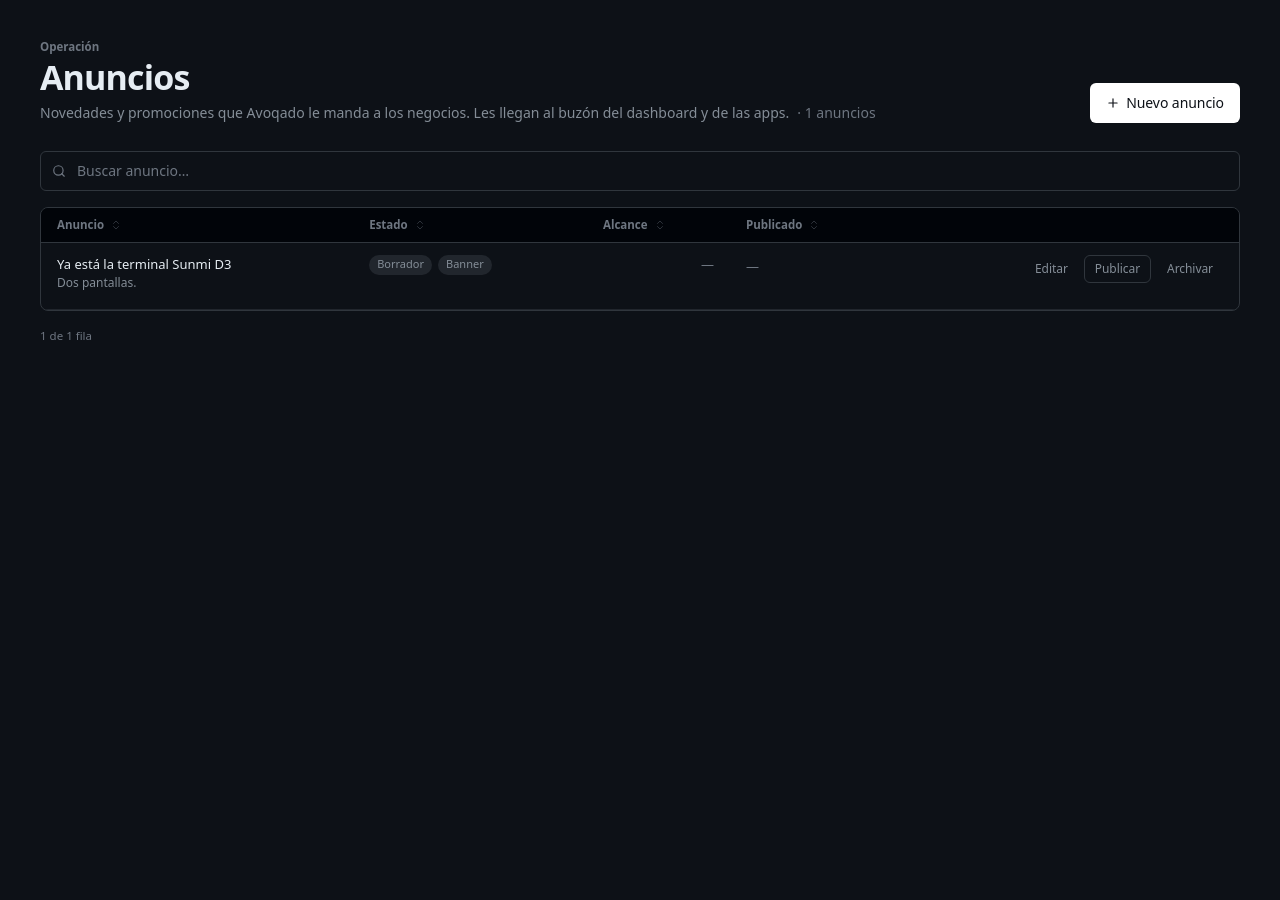
Scenario: AnnouncementsPage › un borrador se puede EDITAR, y el formulario abre con su contenido
Expected: the text "Ya está la terminal Sunmi D3" is shown, 57,255 -> 231,274
Step 1. Click the button "Editar" → (1051, 269), box 1025,255 -> 1078,283
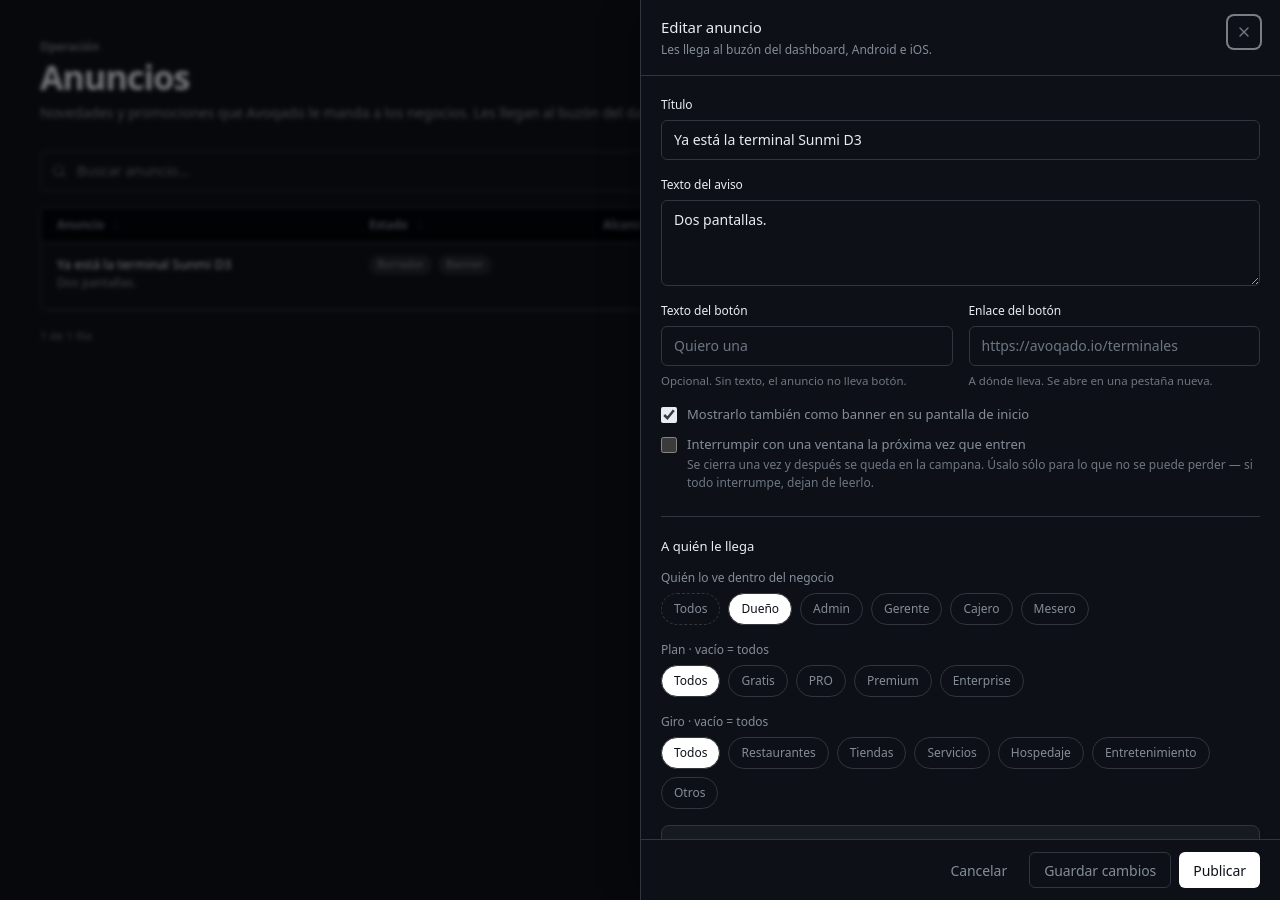
Now the heading "Editar anuncio" is shown, box 661,17 -> 762,37
Now the field labelled "Título" holds "Ya está la terminal Sunmi D3", box 661,120 -> 1260,160
Now the text box labelled "Texto del aviso" holds "Dos pantallas.", box 661,200 -> 1260,286
